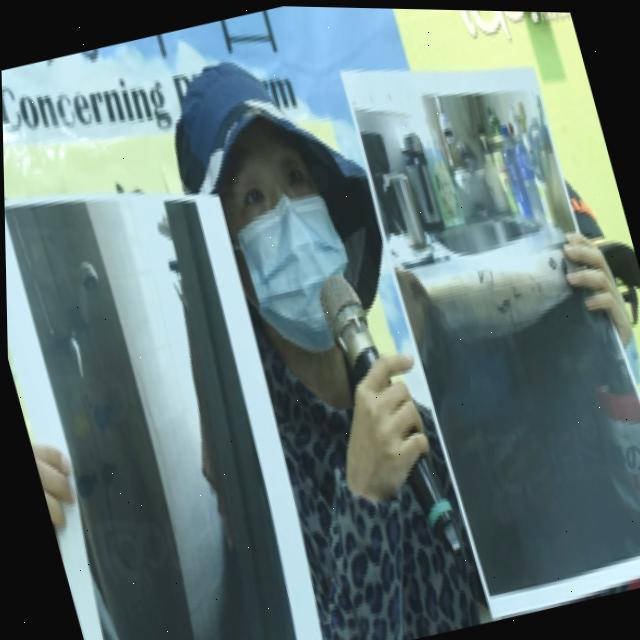Mask: (214, 167, 379, 386)
